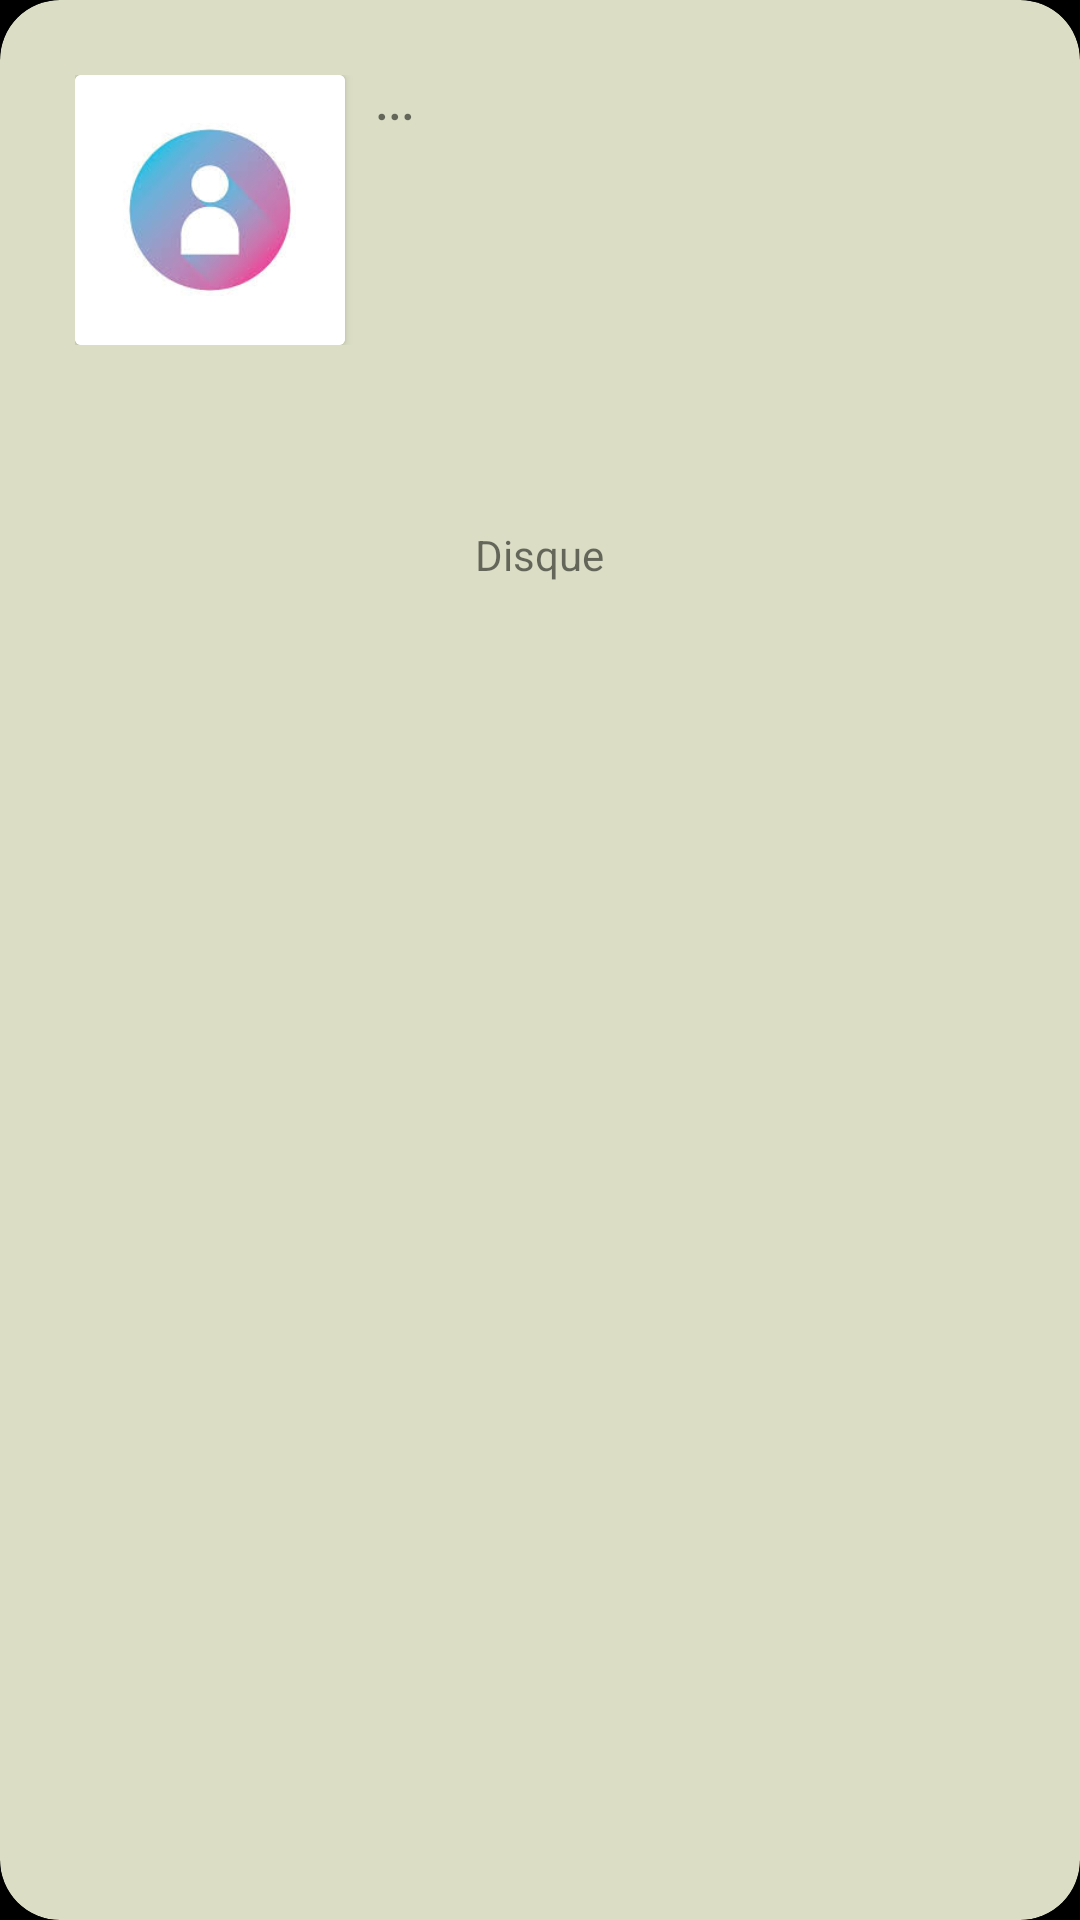

Point at icon controls on the screen. Image size 1080 × 1920, points as point (x, y).
profile: point (210, 210)
